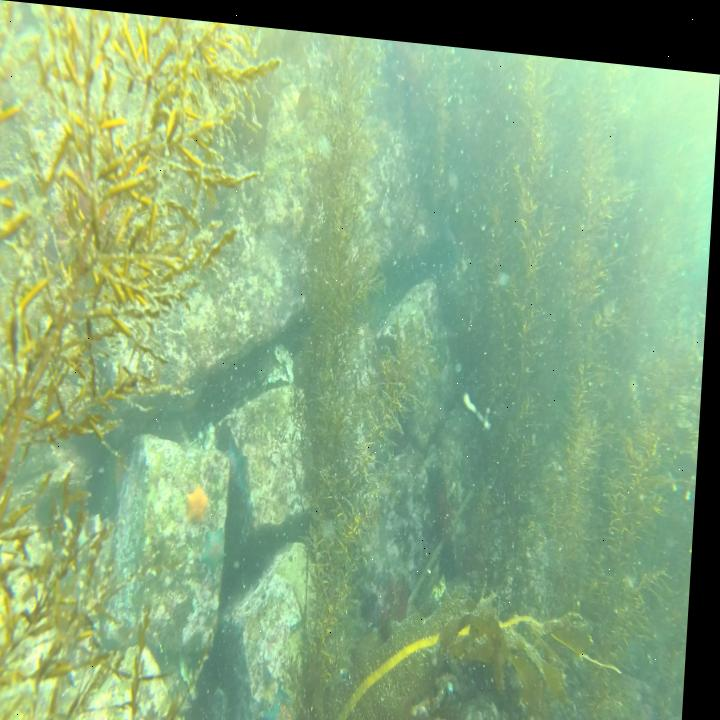echinus: (261, 333, 291, 382)
starfish: (268, 670, 311, 720), (204, 519, 236, 573), (225, 436, 252, 490), (109, 444, 137, 494), (188, 479, 216, 524)
